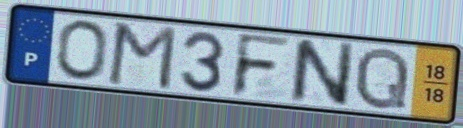3: (178, 29, 228, 94)
F: (228, 31, 294, 100)
M: (104, 20, 180, 92)
N: (288, 36, 358, 108)
O: (56, 18, 110, 83)
Q: (352, 45, 413, 112)
